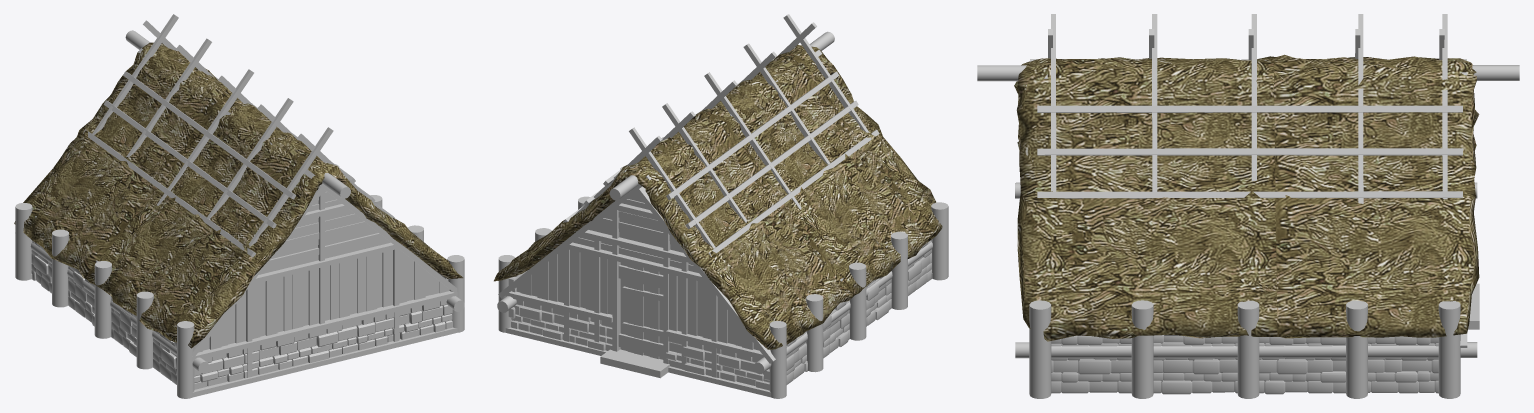
File: midpoly_viking_house_002.fbx
3 views of the same model, side by side, from view 1: azimuth 30°, elevation 25°; view 2: azimuth 150°, elevation 25°; view 3: azimuth 270°, elevation 25° (orthographic). The views are drawn at different scales.
Parts seen in each view (by area): view 1: Plane.012, Wall.157, Cube.2122, Cube.2010, Cylinder.084, Cube.2142, Cylinder.078, Cube.2141, Cube.2118, Cylinder.085, Cube.2140, Cylinder.077 (+33 smaller); view 2: Plane.012, Wall.157, Cube.2126, Cube.2108, Cube.2142, Cube.2141, Cylinder.085, Cylinder.078, Cube.2110, Cylinder.084, Cylinder.041, Cube.2140 (+32 smaller); view 3: Plane.012, Wall.157, Cylinder.081, Cube.2137, Cube.2138, Cube.2139, Cylinder.083, Cylinder.086, Cylinder.079, Cylinder.048, Cylinder.074, Cylinder.082 (+5 smaller).
Part boxes in pixels (left/top/right/bottom): Plane.012: left=14, top=42, right=463, bottom=348; Wall.157: left=31, top=216, right=452, bottom=389; Cube.2122: left=192, top=291, right=457, bottom=361; Cube.2010: left=192, top=327, right=457, bottom=397; Cylinder.084: left=177, top=321, right=194, bottom=398; Cube.2142: left=123, top=71, right=295, bottom=199; Cylinder.078: left=94, top=261, right=111, bottom=338; Cube.2141: left=103, top=100, right=276, bottom=228; Cube.2118: left=251, top=242, right=398, bottom=284; Cylinder.085: left=15, top=203, right=32, bottom=280; Cube.2140: left=83, top=129, right=255, bottom=257; Cylinder.077: left=52, top=229, right=68, bottom=307; Plane.012: left=494, top=44, right=942, bottom=349; Wall.157: left=508, top=240, right=931, bottom=390; Cube.2126: left=618, top=262, right=663, bottom=359; Cube.2108: left=505, top=327, right=771, bottom=397; Cube.2142: left=666, top=71, right=839, bottom=200; Cube.2141: left=685, top=100, right=858, bottom=228; Cylinder.085: left=769, top=321, right=786, bottom=398; Cylinder.078: left=849, top=262, right=866, bottom=340; Cube.2110: left=623, top=169, right=775, bottom=363; Cylinder.084: left=931, top=202, right=948, bottom=280; Cylinder.041: left=891, top=232, right=907, bottom=309; Cube.2140: left=708, top=129, right=879, bottom=256; Plane.012: left=1014, top=54, right=1479, bottom=341; Wall.157: left=1051, top=310, right=1438, bottom=394; Cylinder.081: left=1015, top=342, right=1477, bottom=358; Cube.2137: left=1037, top=105, right=1462, bottom=112; Cube.2138: left=1037, top=148, right=1462, bottom=155; Cube.2139: left=1037, top=191, right=1462, bottom=198; Cylinder.083: left=1029, top=300, right=1051, bottom=398; Cylinder.086: left=1438, top=301, right=1460, bottom=398; Cylinder.079: left=1237, top=300, right=1259, bottom=398; Cylinder.048: left=1131, top=300, right=1153, bottom=398; Cylinder.074: left=1346, top=300, right=1367, bottom=398; Cylinder.082: left=977, top=65, right=1519, bottom=81.
Bounding box in the file's own units: 3.87 × 2.92 × 4.92.
